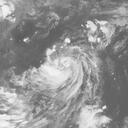cyclone: (32, 45, 93, 99)
